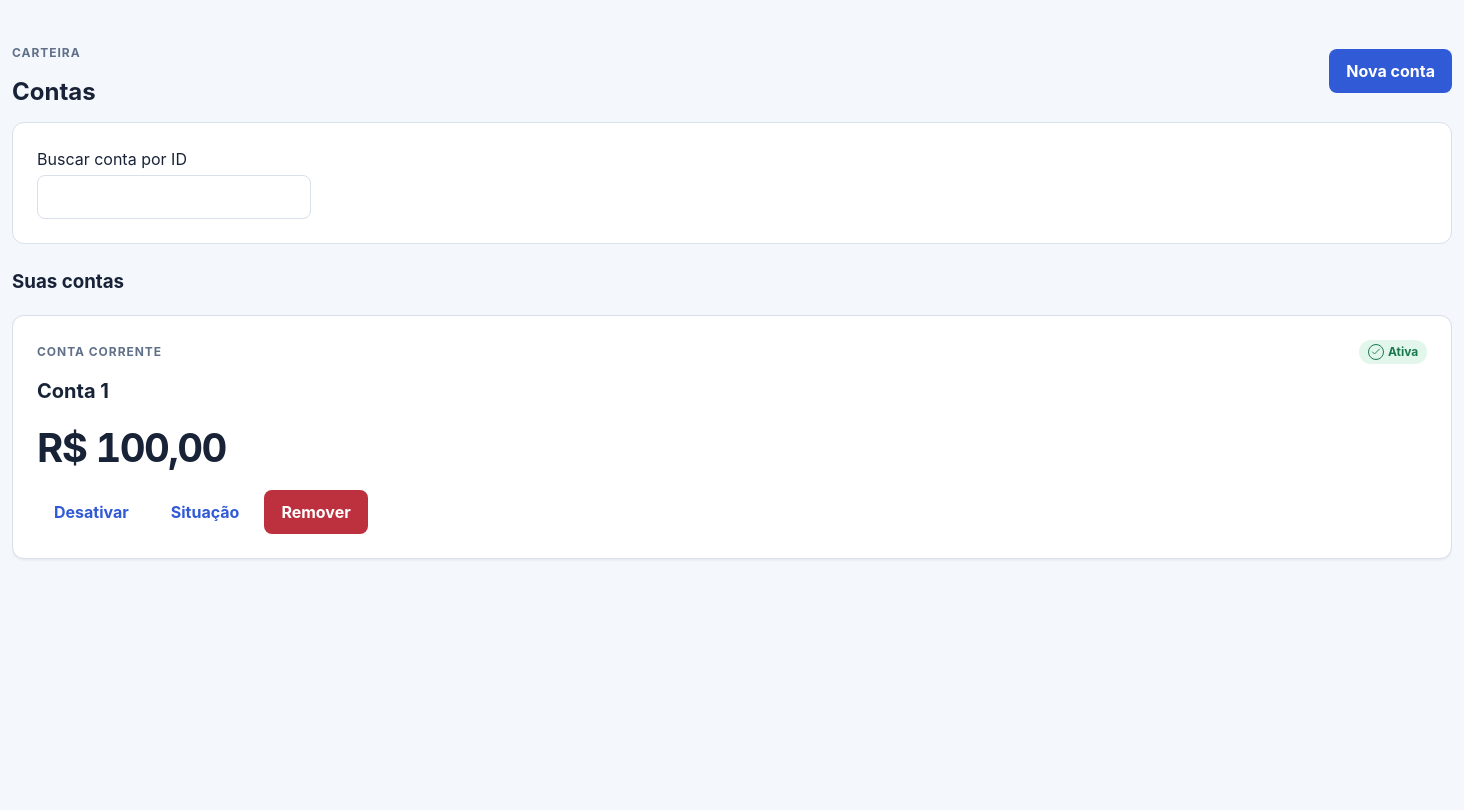
componentes de contas › carrega a lista e executa ação da conta
Expected: the text "Conta 1" is shown, [37, 379, 109, 403]
What coordinates should you click on to do the following:
click the button "Desativar"
I would click on:
 (91, 512)
Its box is [37, 490, 146, 534].
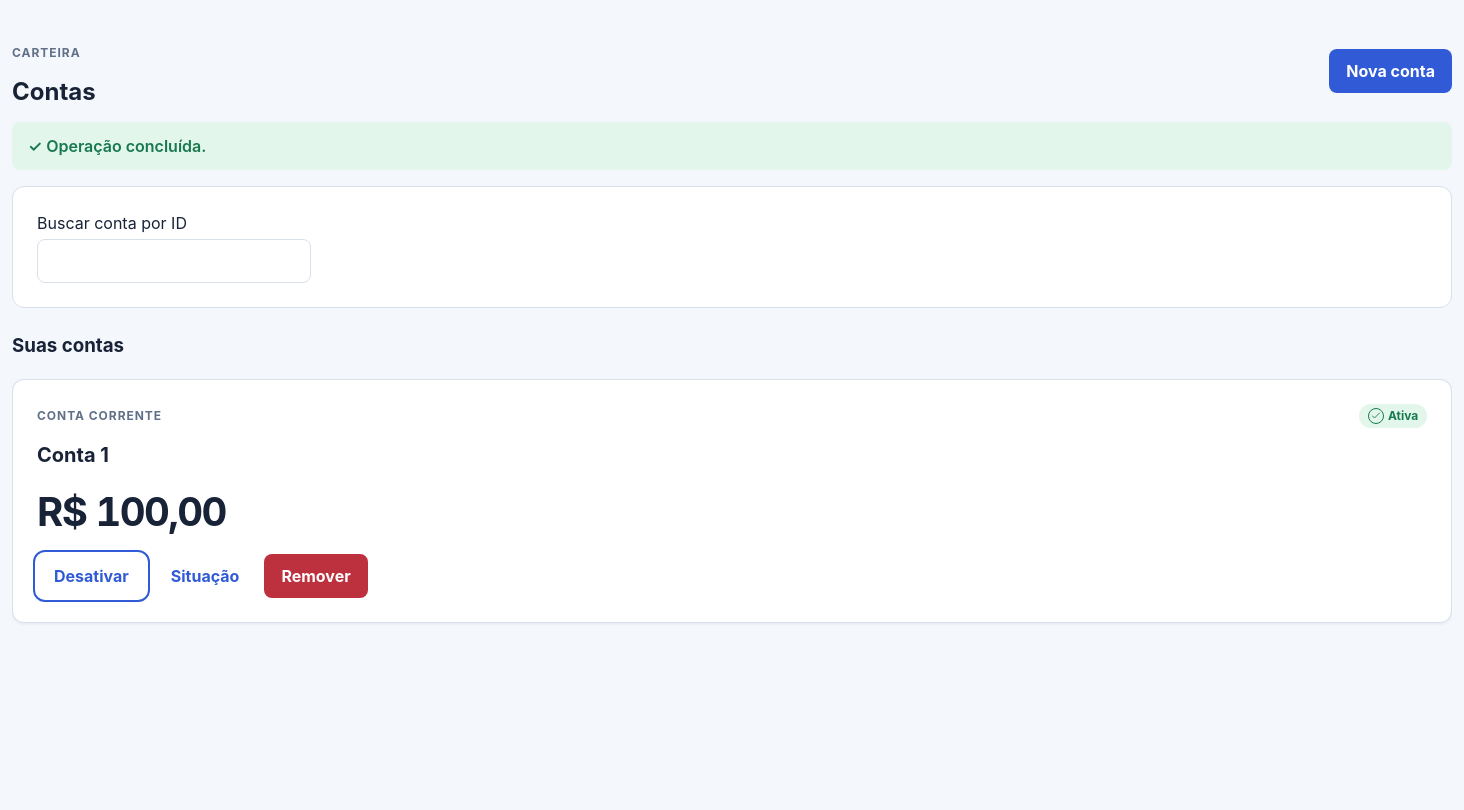
Now the message shows "Operação concluída", box [46, 136, 206, 156]
